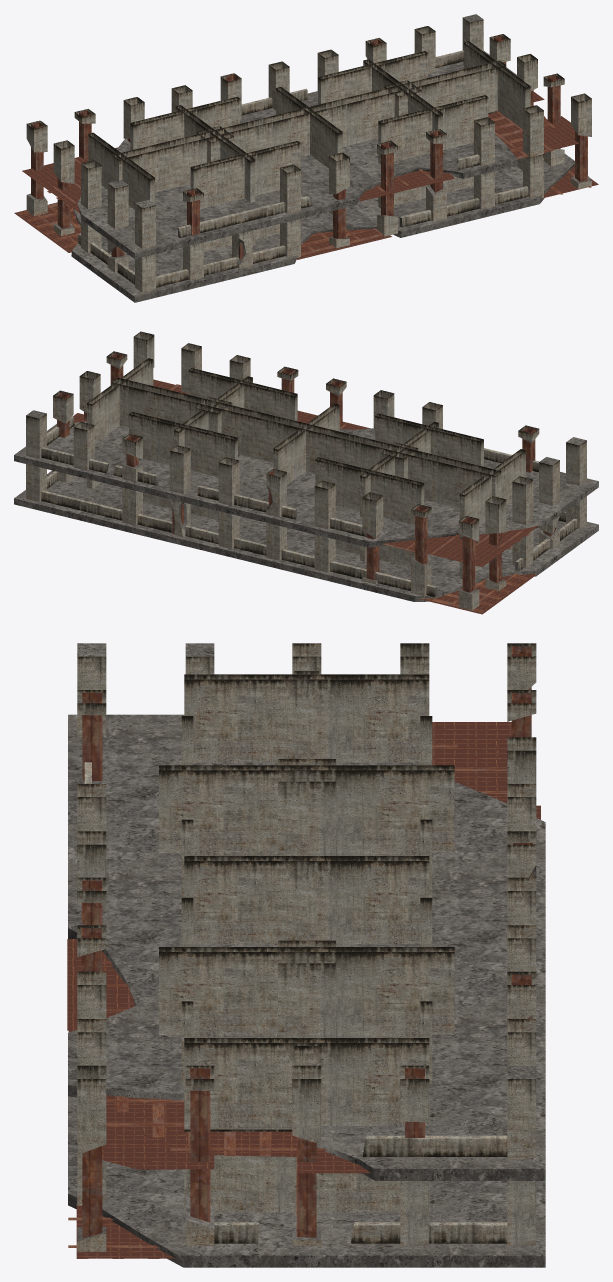
The model's file is Build6A_el4_LOD1.fbx.
The picture shows the model from 3 angles, top to bottom: view 1: azimuth 30°, elevation 25°; view 2: azimuth 150°, elevation 25°; view 3: azimuth 270°, elevation 25°; orthographic projection. The views are drawn at different scales.
Parts seen in each view (by area): view 1: polySurface1038; view 2: polySurface1038; view 3: polySurface1038.
Boxes of the visible parts, left/top/right/bottom form: polySurface1038: left=14, top=14, right=598, bottom=302; polySurface1038: left=14, top=331, right=598, bottom=614; polySurface1038: left=67, top=643, right=545, bottom=1267.
Size of the model in its own units: 45.16 by 8.39 by 20.03.
